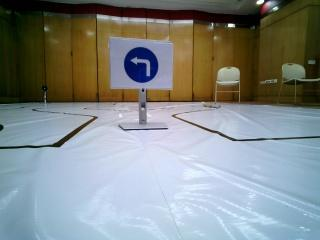left: (117, 42, 170, 89)
